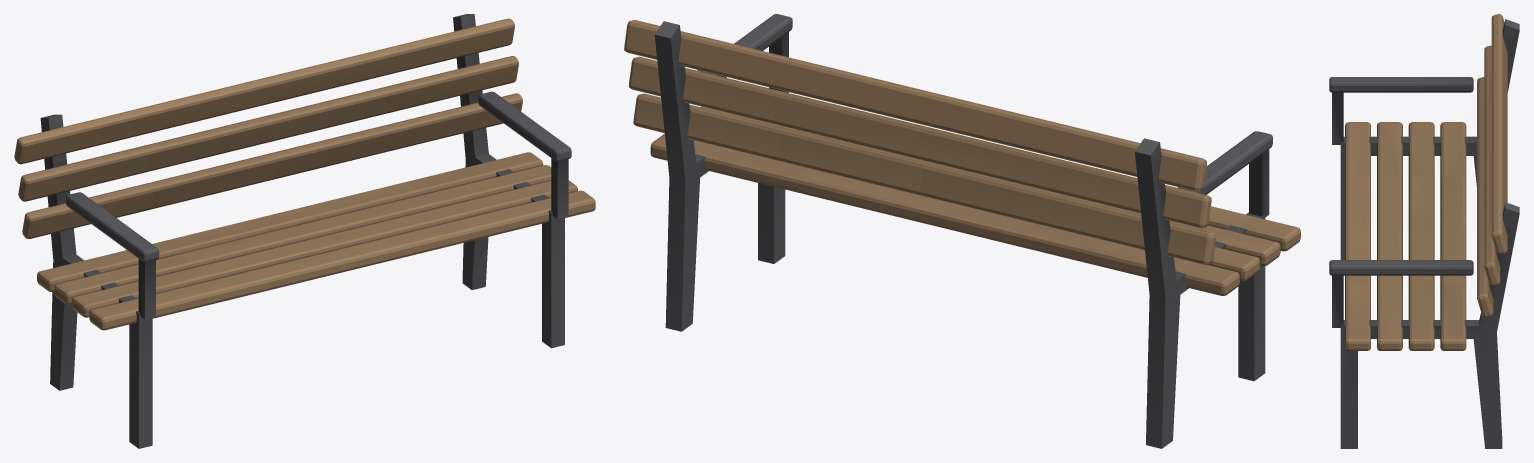
File: st_bench.glb
The picture shows the model from 3 angles, left to right: view 1: azimuth 30°, elevation 25°; view 2: azimuth 150°, elevation 25°; view 3: azimuth 270°, elevation 25°; orthographic projection. The views are drawn at different scales.
Parts seen in each view (by area): view 1: body; view 2: body; view 3: body.
Part boxes in pixels (<box>): body: <box>14,14,595,448</box>; body: <box>624,14,1300,448</box>; body: <box>1329,14,1519,448</box>.
Size of the model in its own units: 1.8 by 0.92 by 0.66.
